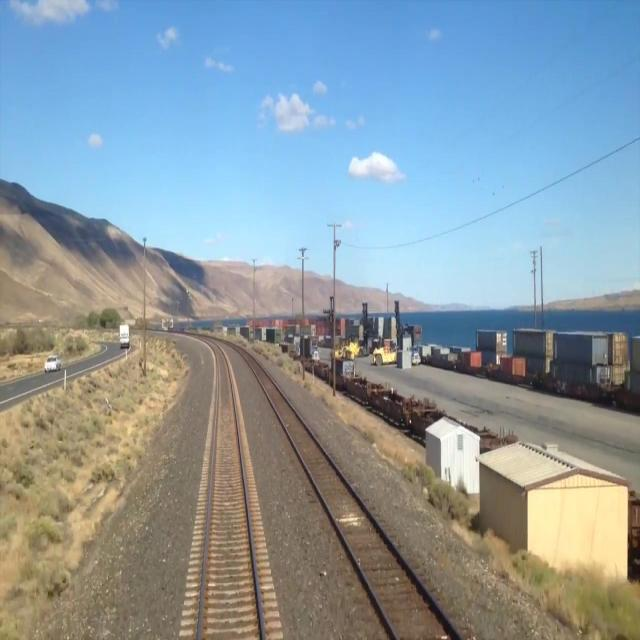rail-track: (246, 354, 457, 639), (202, 347, 261, 639)
